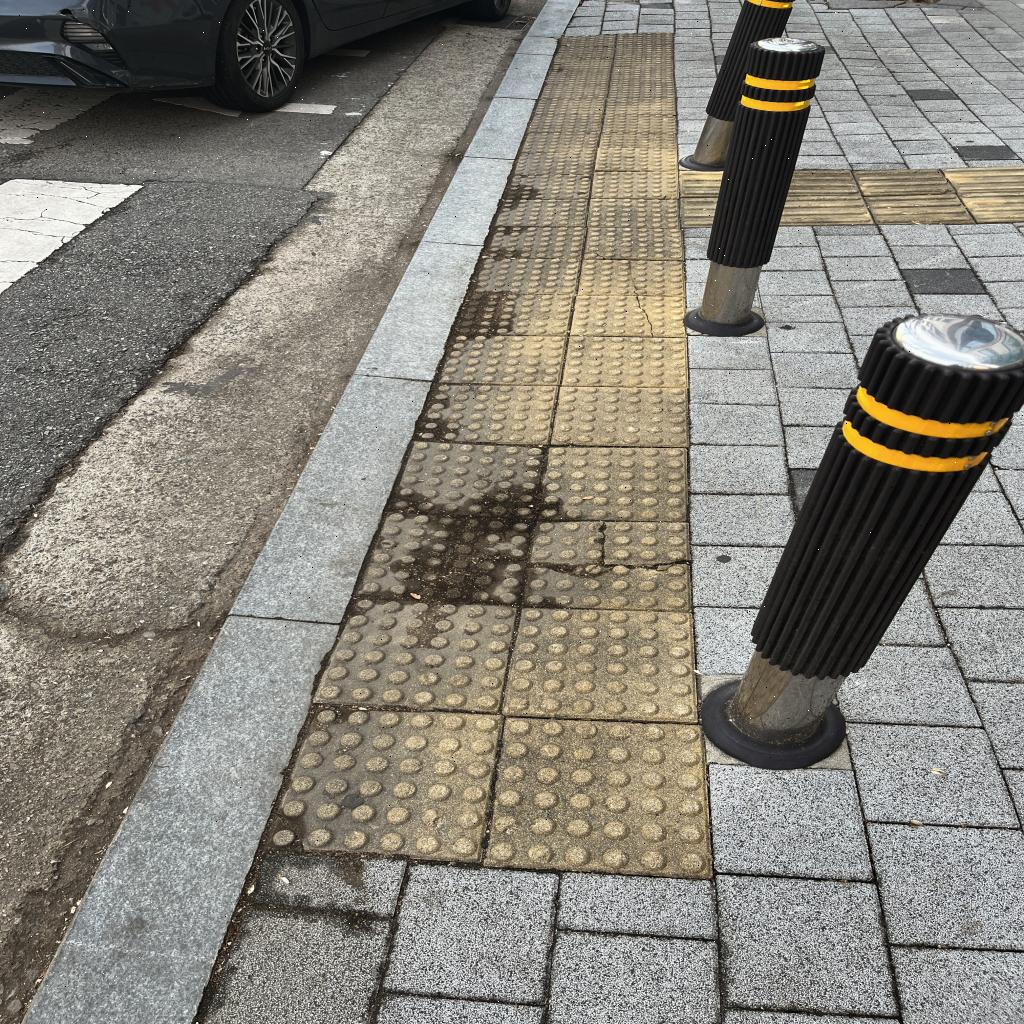Stop block broken: (524, 522, 690, 611), (571, 296, 685, 337)
Stop block normal: (264, 705, 502, 861), (538, 447, 687, 522), (551, 387, 689, 446), (438, 335, 567, 385)
